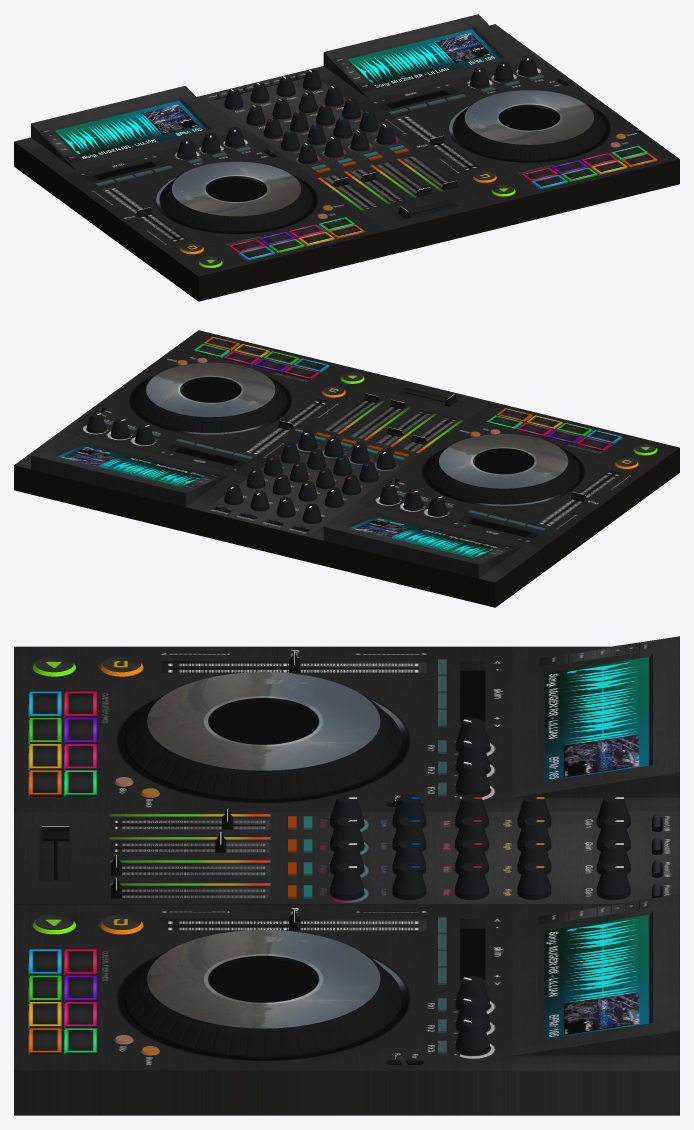
File: dj-controller.glb
3 renders of one model, top to bottom at view 1: azimuth 30°, elevation 25°; view 2: azimuth 150°, elevation 25°; view 3: azimuth 270°, elevation 25°, orthographic. The views are drawn at different scales.
Visible parts, largest first — view 1: Object_10, Object_2; view 2: Object_10, Object_2; view 3: Object_10, Object_2.
Boxes of the visible parts, x1,y1,x2,y2 form: Object_10: [14, 14, 679, 276]; Object_2: [14, 55, 679, 301]; Object_10: [14, 330, 679, 582]; Object_2: [14, 357, 679, 607]; Object_10: [14, 636, 679, 1115]; Object_2: [14, 652, 662, 1064].
Size of the model in its own units: 3.28 by 0.258 by 2.18.
Materials: 2 (2 with a texture image).
